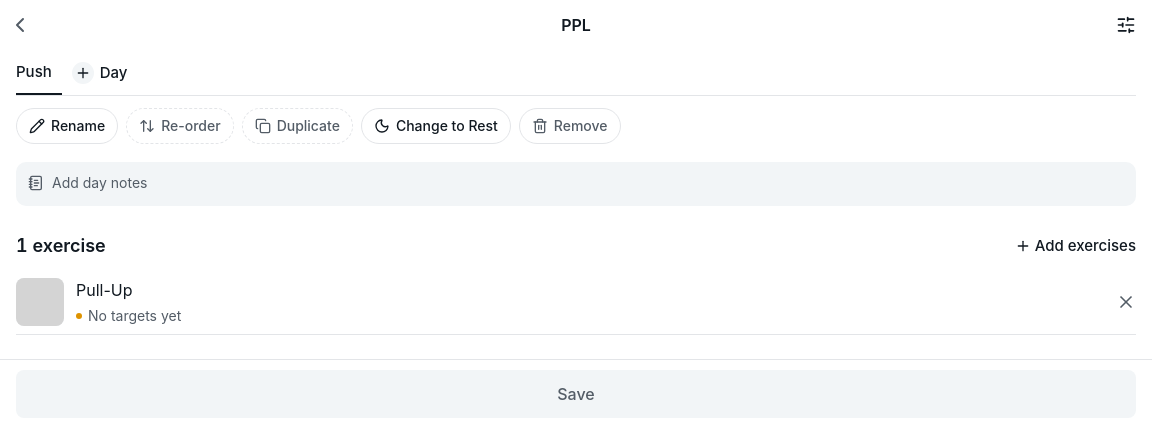
Test: ProgramEditorPage - shell › an active program shows a single Save, disabled until an edit
Expected: the button "Save" is disabled, [16,370,1136,418]
Type "Heavy" into the text box labelled "day notes" at (588, 183), box [52,173,1124,193]
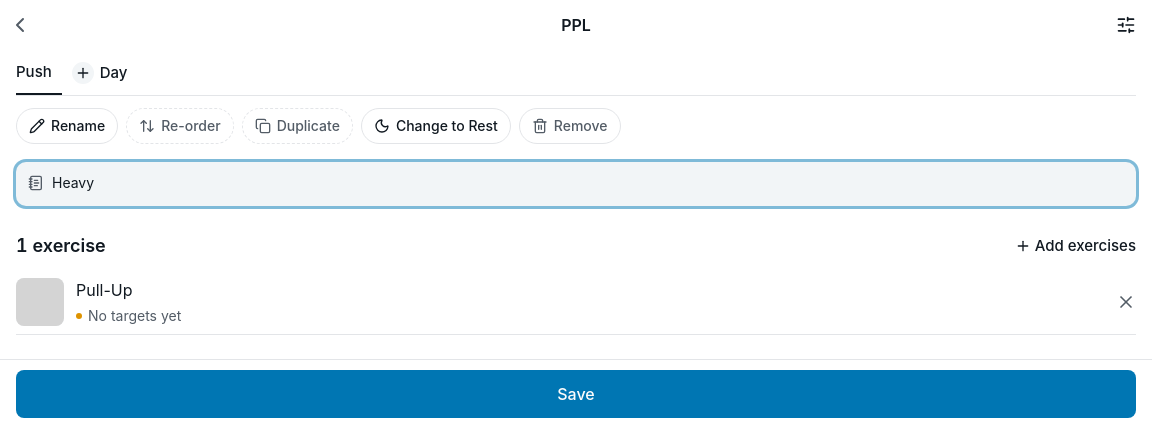
Expected: the button "Save" is enabled, [16,370,1136,418]
